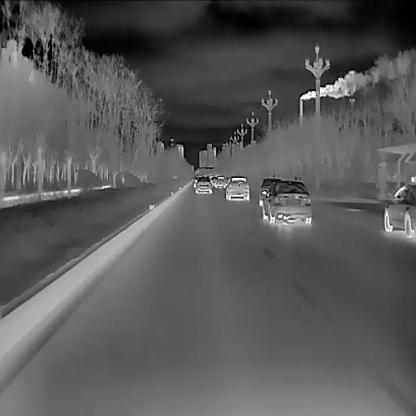car: (261, 181, 311, 223), (384, 175, 416, 238), (224, 176, 249, 200), (258, 178, 277, 205), (196, 177, 210, 194), (214, 176, 225, 188)
